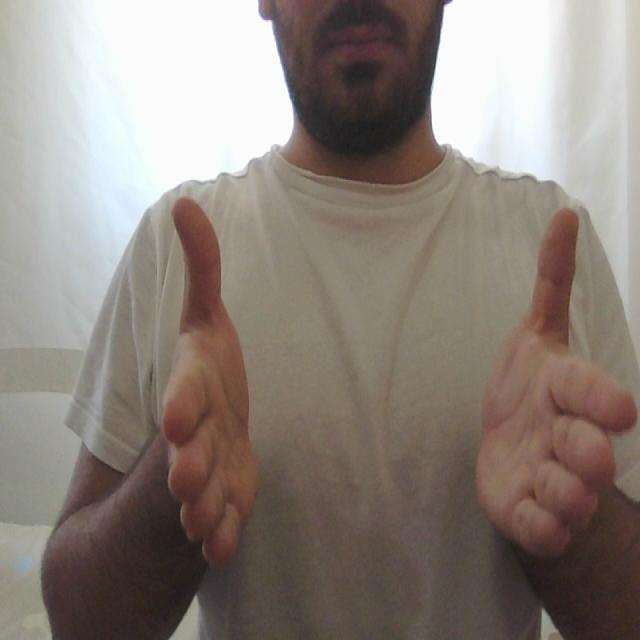Nasil: (146, 165, 640, 580)
